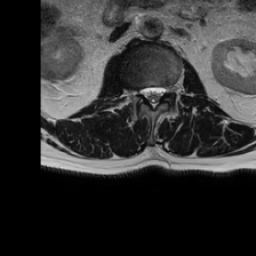CCS_normal: (149, 80, 156, 112)
LFS_normal: (166, 80, 173, 97)
LLS_normal: (157, 80, 165, 103)
RFS_stenosis: (134, 81, 142, 103)
RLS_normal: (142, 80, 149, 104)
